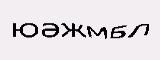Д: (35, 6, 61, 38), (81, 10, 97, 36)
Ж: (103, 11, 127, 32)
Э: (93, 7, 107, 32)
Я: (58, 5, 81, 34)
